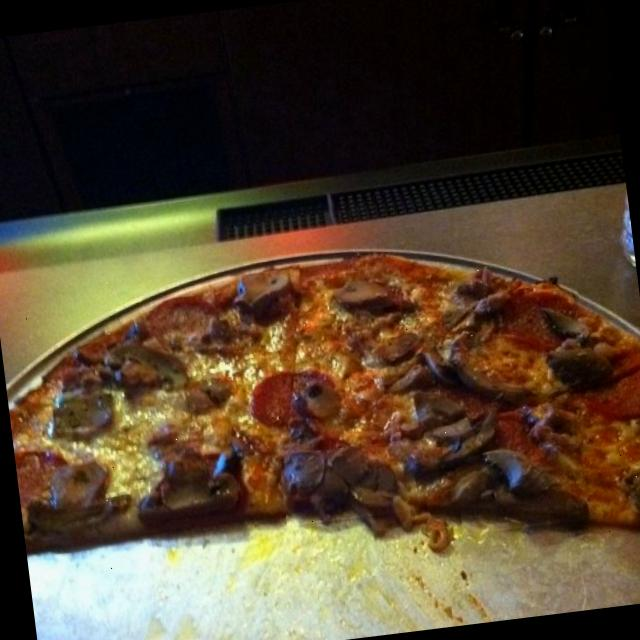mushrooms: (388, 339, 522, 473), (452, 443, 589, 536), (278, 439, 419, 527), (134, 454, 246, 524), (91, 340, 186, 412), (536, 297, 610, 389), (227, 263, 290, 321), (46, 358, 114, 396)
pepperoni: (248, 358, 358, 431), (12, 434, 96, 522), (487, 282, 583, 351), (138, 292, 224, 356), (577, 358, 640, 427)
pizza: (7, 251, 640, 553)
